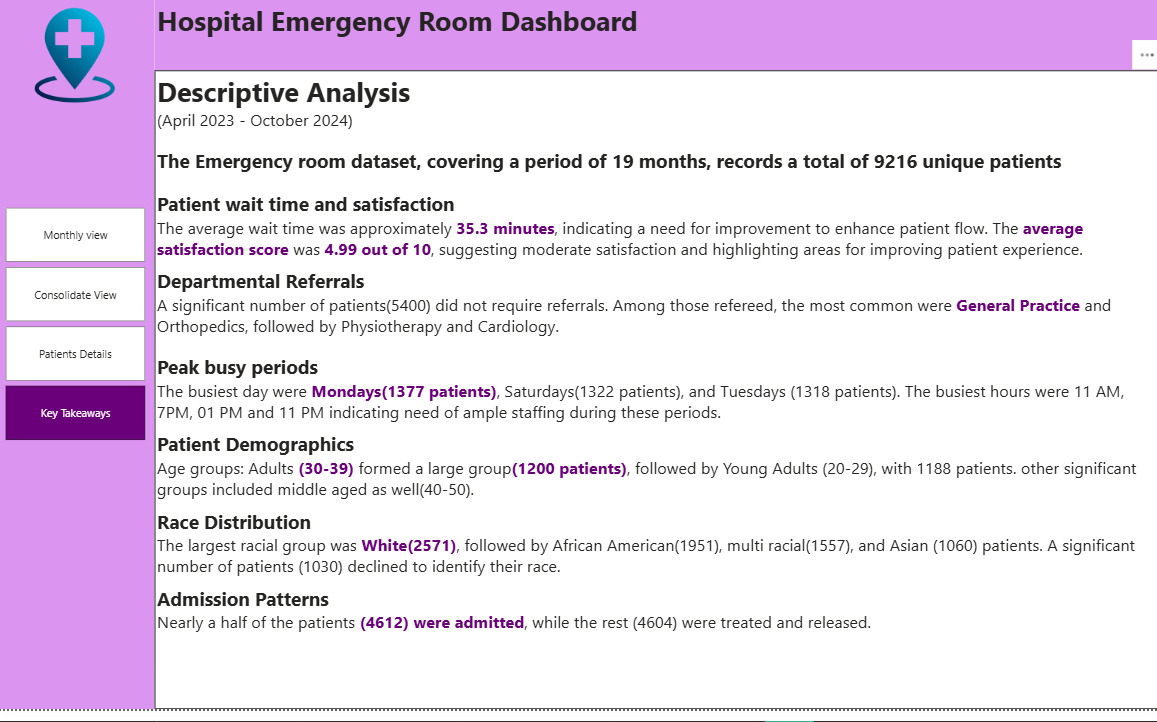

The page's visual inventory and layout, read from the dashboard file:
{"tool":"powerbi","page":{"name":"Key Takeaways","canvas":[2300,1400],"ordinal":3},"visuals":[{"type":"shape","box":[0,0,310,1400.5],"z":0},{"type":"shape","box":[310.7,0,1989.8,140.5],"z":1000},{"type":"textbox","box":[310.7,0,971.5,96.2],"z":2000},{"type":"image","box":[50,17.5,207.5,187.5],"z":4000},{"type":"textbox","box":[310,140,1817.5,462.5],"z":4001},{"type":"pageNavigator","box":[17.5,412.5,275,460],"z":4002}]}

Visuals, with their boxes on the page's 2300x1400 design canvas (x1, y1, x2, y2). These are canvas units, not pixel positions in the 1157x722 screenshot, which may show the page scaled, cropped or inside an application window:
shape: <box>0,0,310,1400</box>
shape: <box>311,0,2300,140</box>
textbox: <box>311,0,1282,96</box>
image: <box>50,18,258,205</box>
textbox: <box>310,140,2128,602</box>
pageNavigator: <box>18,412,292,872</box>
